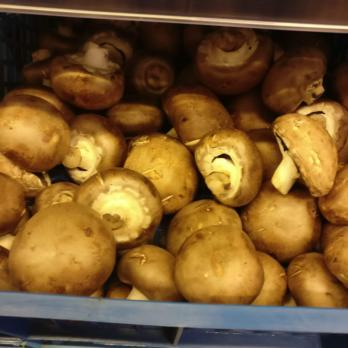Mushroom: (0, 35, 348, 295)
